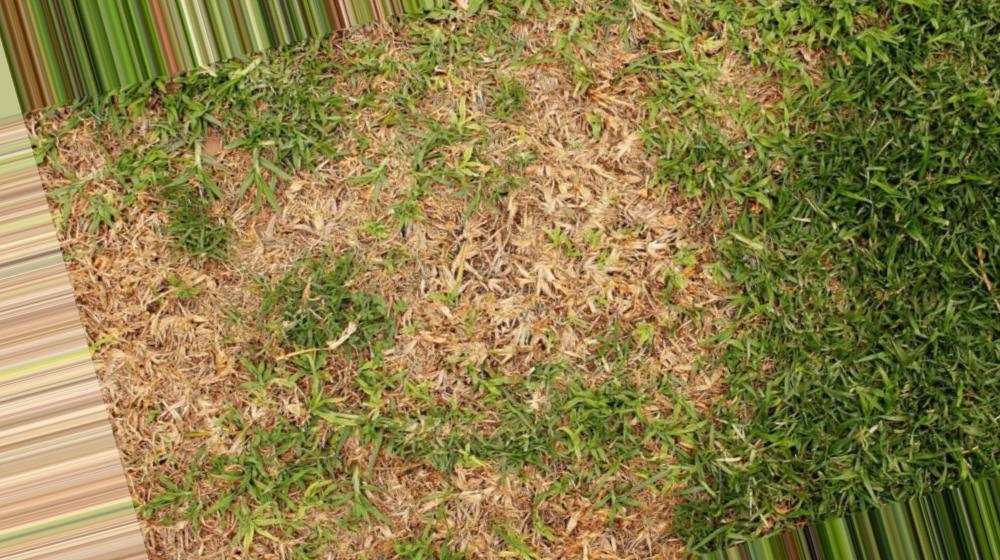patch: (387, 167, 657, 363), (349, 461, 649, 549), (107, 206, 221, 435)
